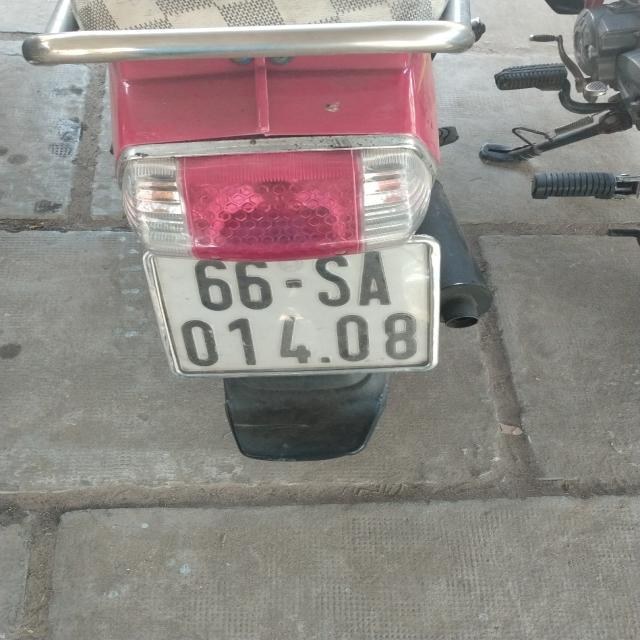0: (336, 308, 370, 366), (183, 317, 220, 368)
1: (224, 317, 258, 365)
4: (278, 314, 309, 364)
6: (189, 256, 232, 313), (232, 257, 272, 311)
8: (380, 310, 422, 369)
A: (355, 246, 392, 311)
S: (307, 254, 351, 306)
